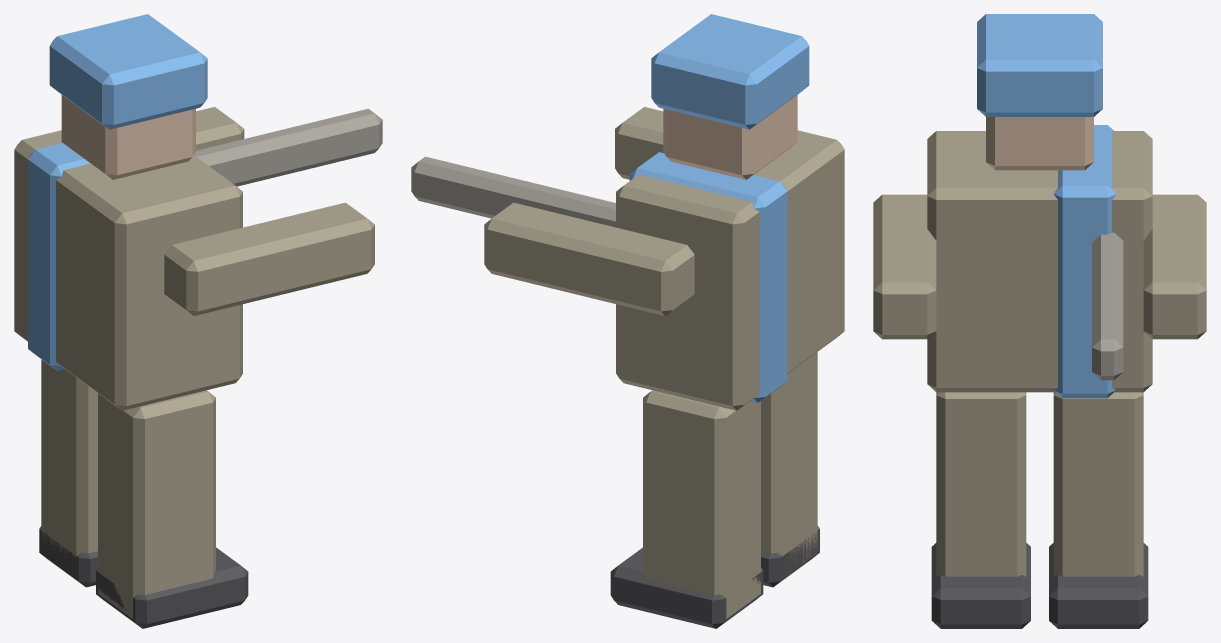
File: rebel.glb
The picture shows the model from 3 angles, left to right: view 1: azimuth 30°, elevation 25°; view 2: azimuth 150°, elevation 25°; view 3: azimuth 270°, elevation 25°; orthographic projection. The views are drawn at different scales.
Parts seen in each view (by area): view 1: rebel; view 2: rebel; view 3: rebel.
Part boxes in pixels (x1=…): rebel: x1=14, y1=14, x2=382, y2=628; rebel: x1=411, y1=14, x2=844, y2=628; rebel: x1=873, y1=14, x2=1206, y2=628.
Bounding box in the file's own units: 0.93 × 1.37 × 0.74.
